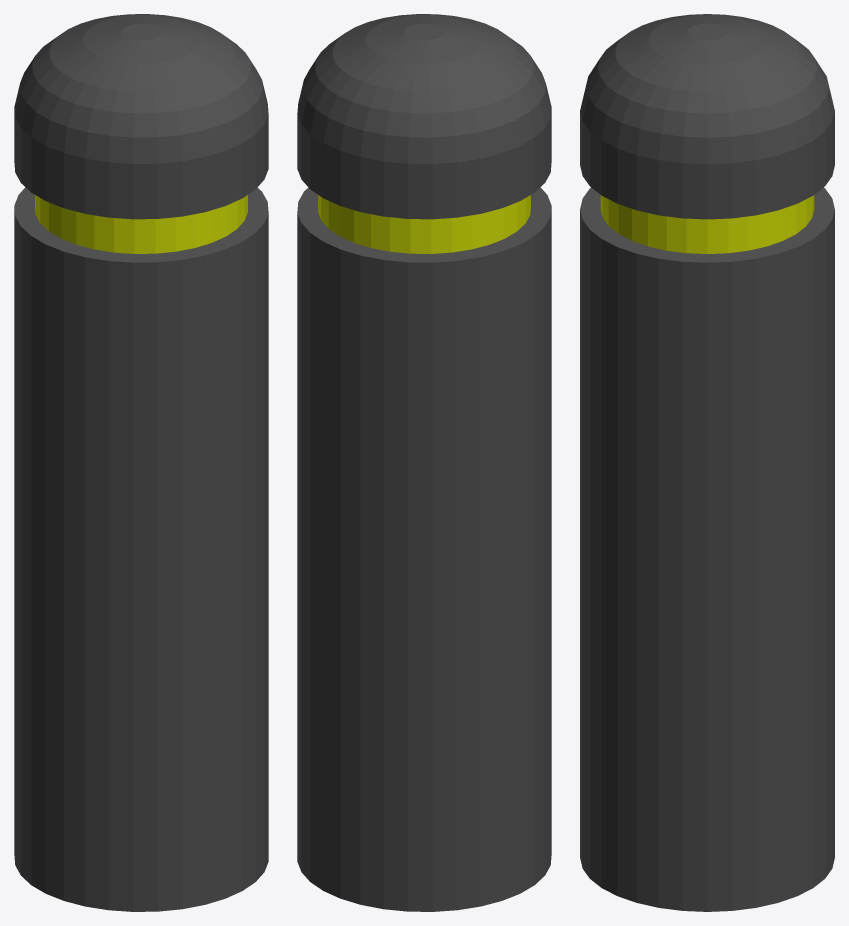
The model's file is railing base.fbx.
3 views of the same model, side by side, from view 1: azimuth 30°, elevation 25°; view 2: azimuth 150°, elevation 25°; view 3: azimuth 270°, elevation 25° (orthographic).
Visible parts, largest first — view 1: Cylinder; view 2: Cylinder; view 3: Cylinder.
Part boxes in pixels (x1=…): Cylinder: x1=14, y1=14, x2=268, y2=911; Cylinder: x1=297, y1=14, x2=551, y2=911; Cylinder: x1=580, y1=14, x2=834, y2=911.
Bounding box in the file's own units: 100 × 358 × 100.
